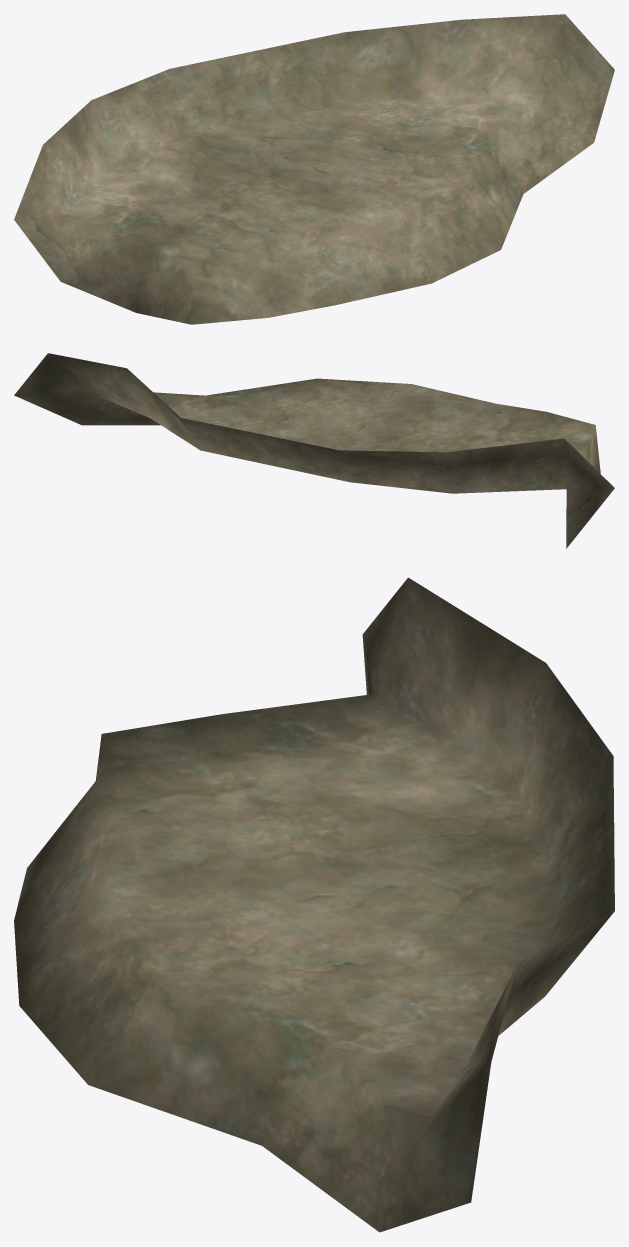
Rendered from EKH_GROTTO_PS_GR_OBJECT02.fbx.
The picture shows the model from 3 angles, top to bottom: view 1: azimuth 30°, elevation 25°; view 2: azimuth 150°, elevation 25°; view 3: azimuth 270°, elevation 25°; orthographic projection. The views are drawn at different scales.
Parts seen in each view (by area): view 1: EKH_GROTTO_PS_GR_OBJECT02; view 2: EKH_GROTTO_PS_GR_OBJECT02; view 3: EKH_GROTTO_PS_GR_OBJECT02.
Boxes of the visible parts, bbox=[...] form: EKH_GROTTO_PS_GR_OBJECT02: bbox=[14, 14, 614, 324]; EKH_GROTTO_PS_GR_OBJECT02: bbox=[14, 353, 614, 548]; EKH_GROTTO_PS_GR_OBJECT02: bbox=[14, 577, 614, 1232].
Bounding box in the file's own units: 36242 × 7193 × 17685.
1 material, 1 textured.
